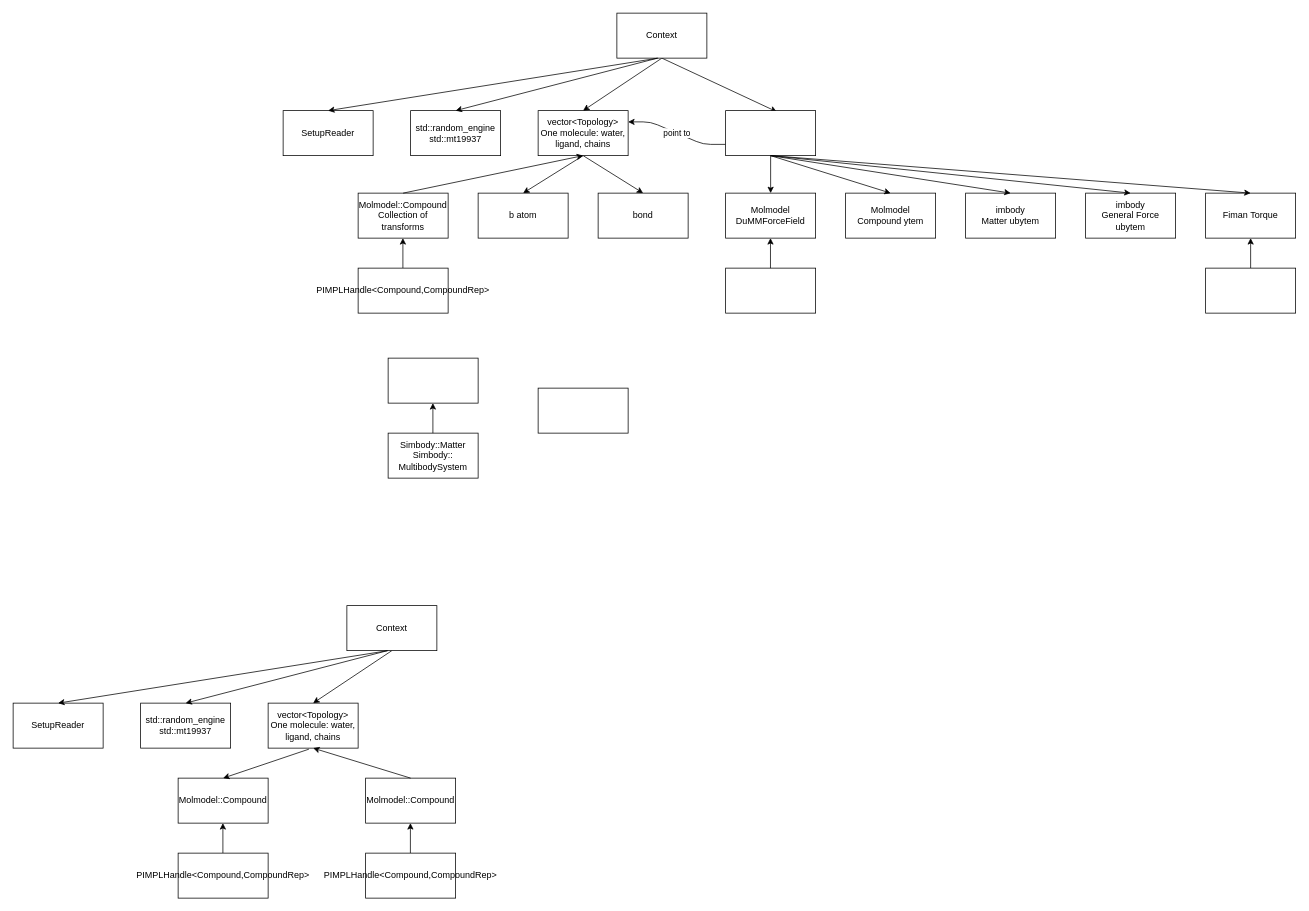
Image size: 1309x911. Some labels were removed from this diagram. The centre of each missing label's shape, as x and y in pixels:
Atom, AtomBonded, AtomBondCenters, NonBondedAtoms: (x=582, y=410)
imbody Force: (x=1250, y=290)
Molmodel:: CompoundSystem has pointers to topologies: (x=432, y=380)
Simbody ForceField: (x=770, y=290)
Worlds: (x=770, y=133)
